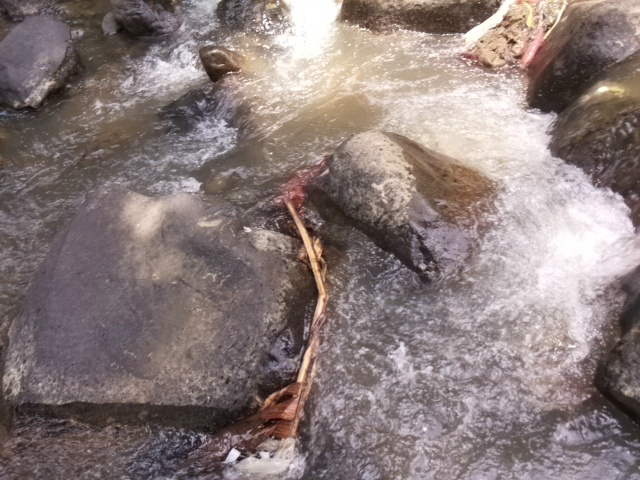Sampah_Plastik: (281, 178, 317, 212)
